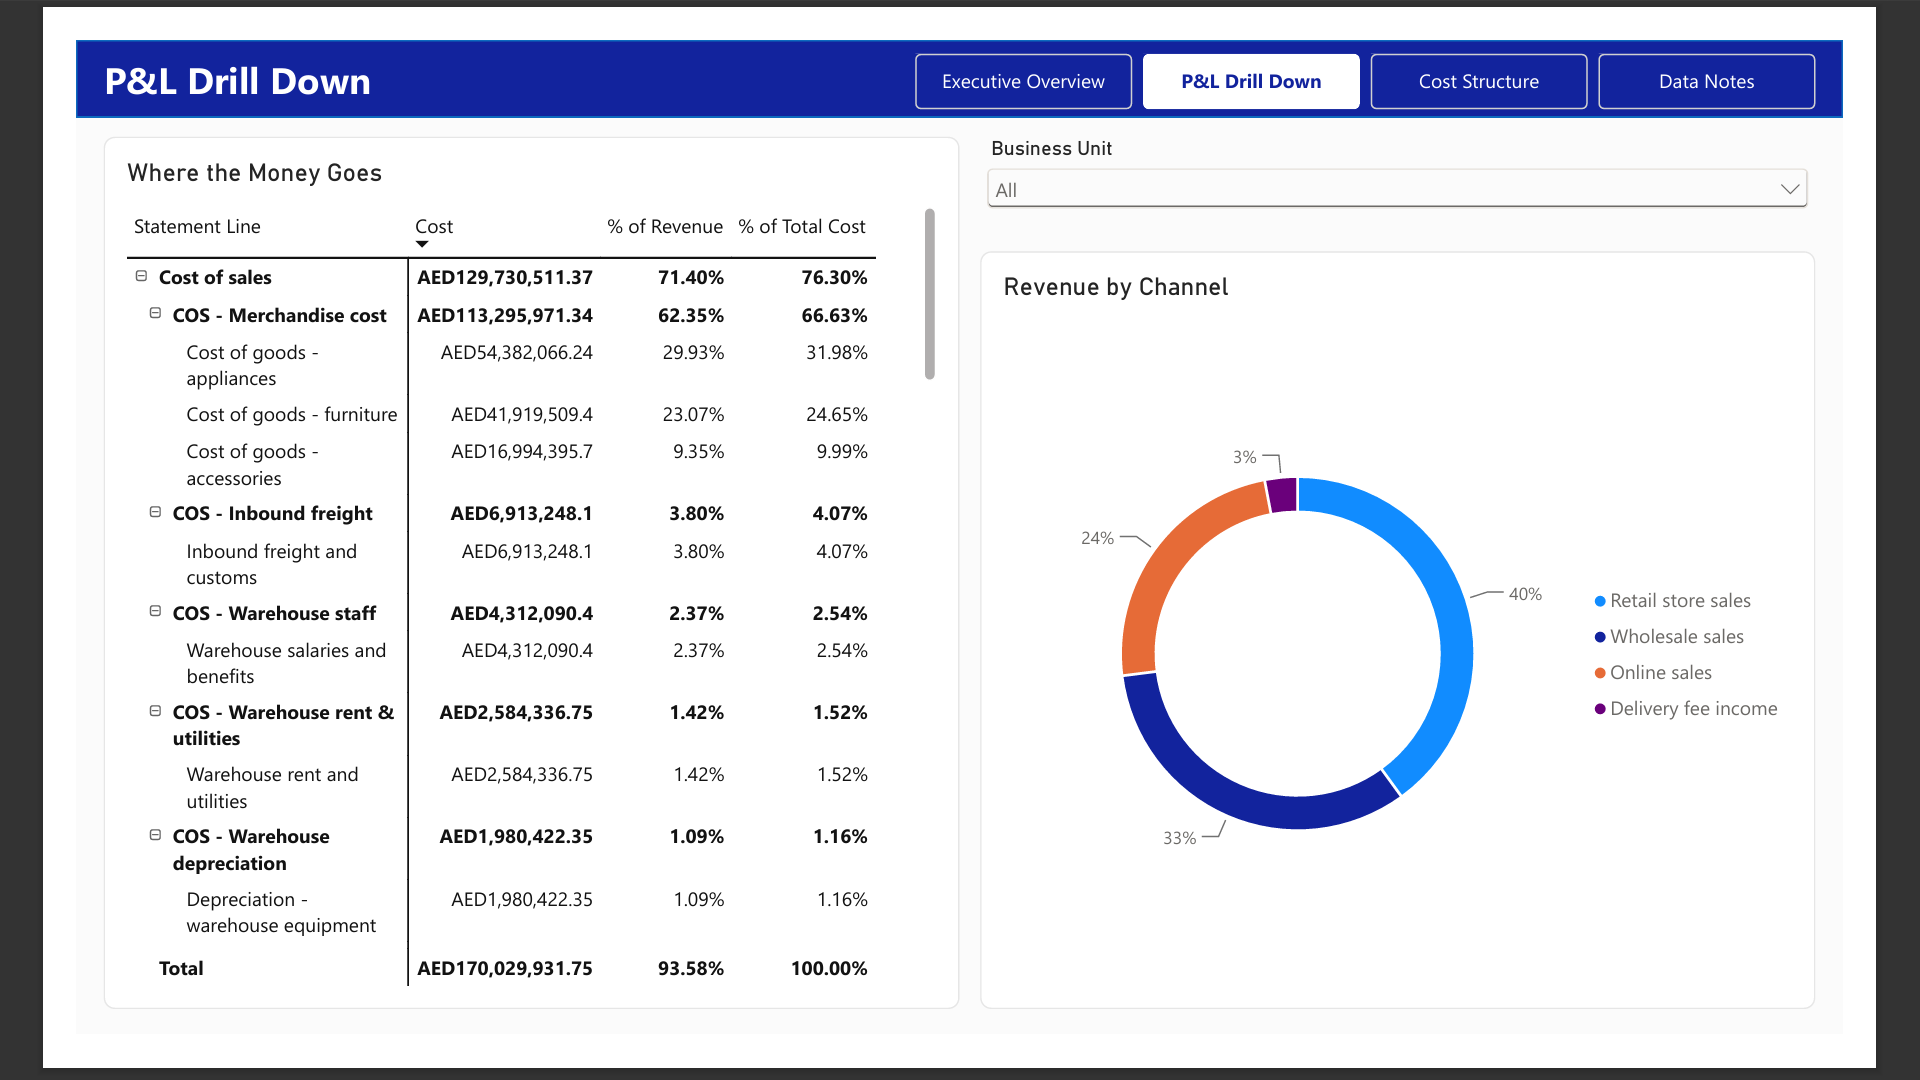

This screenshot's page, from the dashboard's own definition file:
{"tool":"powerbi","page":{"name":"P&L Drill Down","canvas":[1280,720],"ordinal":1},"visuals":[{"type":"slicer","fields":{"Values":["Dim_Combination.Division Description"]},"box":[655,70,605,76.7],"z":2000},{"type":"shape","title":"Executive Financial Overview","box":[0,0,1280,56],"z":3000},{"type":"pageNavigator","box":[608.3,10,651.7,40],"z":4000},{"type":"textbox","box":[20,10,575,40],"z":5000},{"type":"donutChart","title":"Revenue by Channel","fields":{"Category":["Dim_Combination.FS Notes"],"Y":["_Measures.Revenue"]},"box":[655,153.3,605,548.3],"z":5500},{"type":"pivotTable","title":"Where the Money Goes","fields":{"Rows":["Dim_Combination.FS Caption","Dim_Combination.FS Notes","Dim_Combination.Account Description"],"Values":["_Measures.Total CY","_Measures.Cost % of Revenue","_Measures.Cost Share %"]},"box":[20,70,620,631.7],"z":6000}]}

Visuals, with their boxes in screenshot pixels (x1, y1, x2, y2), scaled from the page's 1280x720 canvas onto the 1920x1080 screenshot:
slicer - Dim_Combination.Division Description: box=[982, 105, 1890, 220]
"Executive Financial Overview" shape: box=[0, 0, 1919, 84]
pageNavigator: box=[912, 15, 1890, 75]
textbox: box=[30, 15, 892, 75]
"Revenue by Channel" donutChart: box=[982, 230, 1890, 1052]
"Where the Money Goes" pivotTable: box=[30, 105, 960, 1053]
